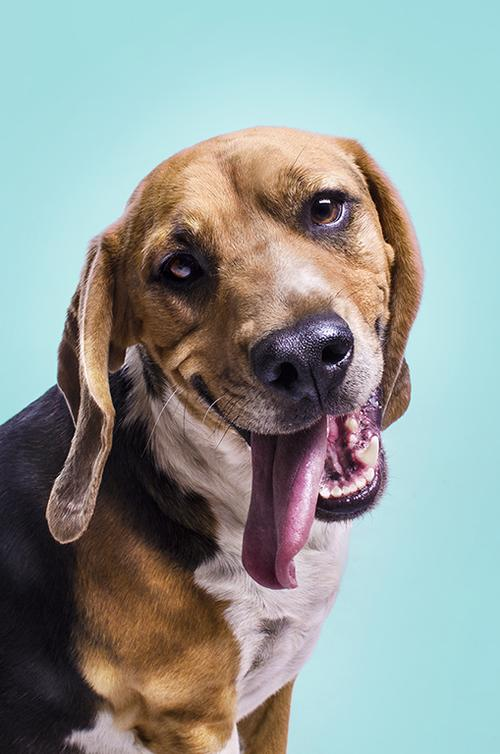dog: (0, 124, 423, 752)
